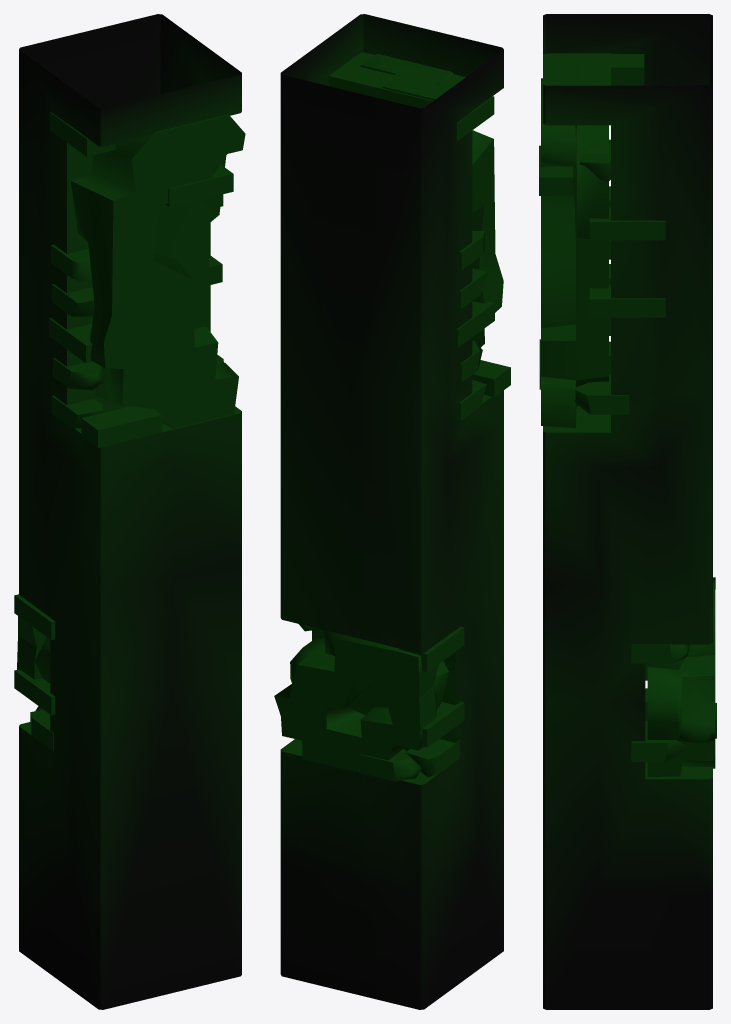
The model's file is DBK_Brick_Pillar_A.fbx.
3 renders of one model, left to right at view 1: azimuth 30°, elevation 25°; view 2: azimuth 150°, elevation 25°; view 3: azimuth 270°, elevation 25°, orthographic. The views are drawn at different scales.
Parts seen in each view (by area): view 1: DBK_Brick_Pillar_A; view 2: DBK_Brick_Pillar_A; view 3: DBK_Brick_Pillar_A.
Part boxes in pixels (x1,y1,x2,y2): DBK_Brick_Pillar_A: (14, 14, 245, 1009); DBK_Brick_Pillar_A: (274, 14, 510, 1009); DBK_Brick_Pillar_A: (539, 14, 716, 1009).
Bounding box in the file's own units: 53.66 × 300 × 52.32.
